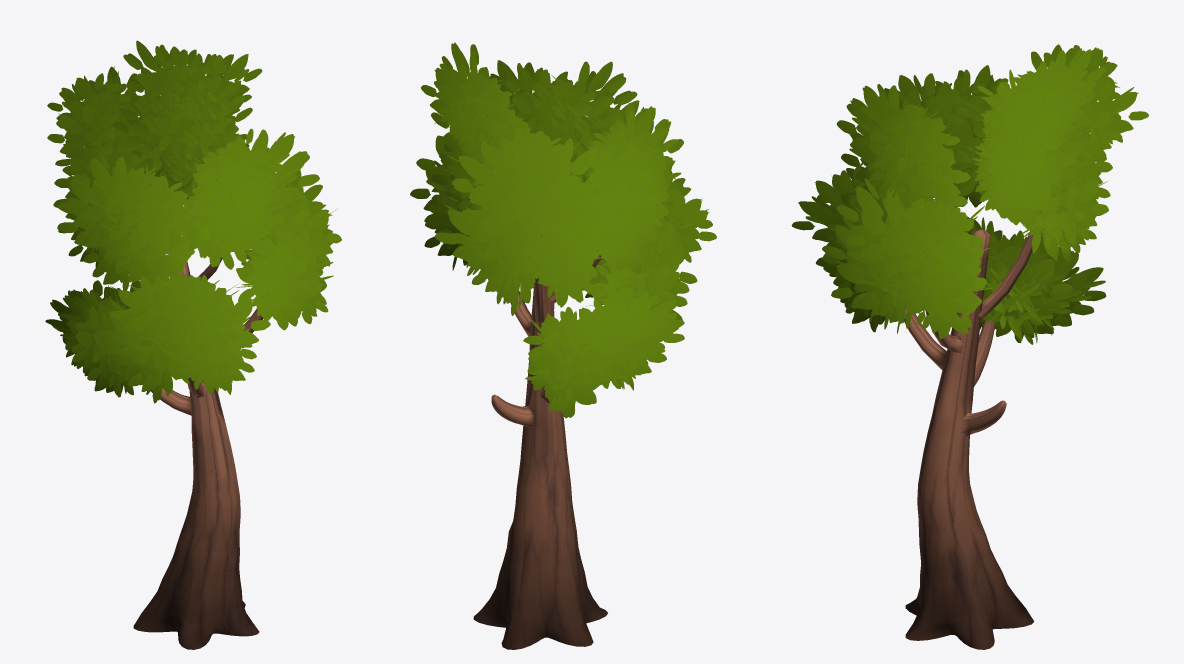
File: canopy_commontree_5.glb
3 renders of one model, left to right at view 1: azimuth 30°, elevation 25°; view 2: azimuth 150°, elevation 25°; view 3: azimuth 270°, elevation 25°, orthographic. The views are drawn at different scales.
Visible parts, largest first — view 1: tree027_1, tree027; view 2: tree027_1, tree027; view 3: tree027_1, tree027.
Boxes of the visible parts, x1,y1,x2,y2 form: tree027_1: [45, 40, 341, 403]; tree027: [133, 257, 263, 649]; tree027_1: [410, 42, 716, 418]; tree027: [473, 119, 607, 649]; tree027_1: [791, 44, 1148, 344]; tree027: [904, 133, 1033, 649].
Bounding box in the file's own units: 5.24 × 10 × 6.02.
2 materials, 2 textured.
